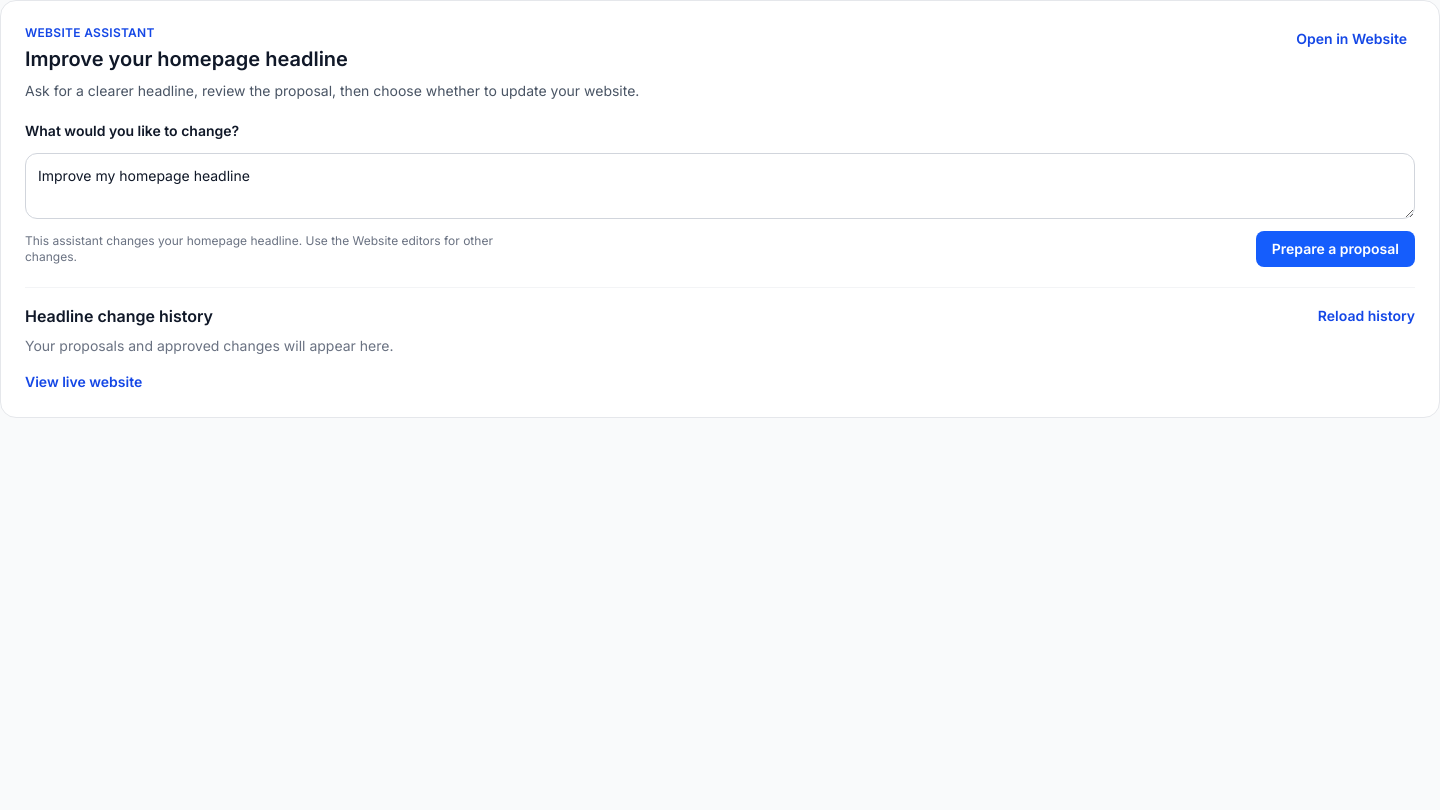
Homepage headline conversation and review › shows stored history on reload and lets the owner reopen a prepared proposal
The width and height of the screenshot is (1440, 810).
Click the button "Reload history": (1366, 316) [1318,306,1415,326]
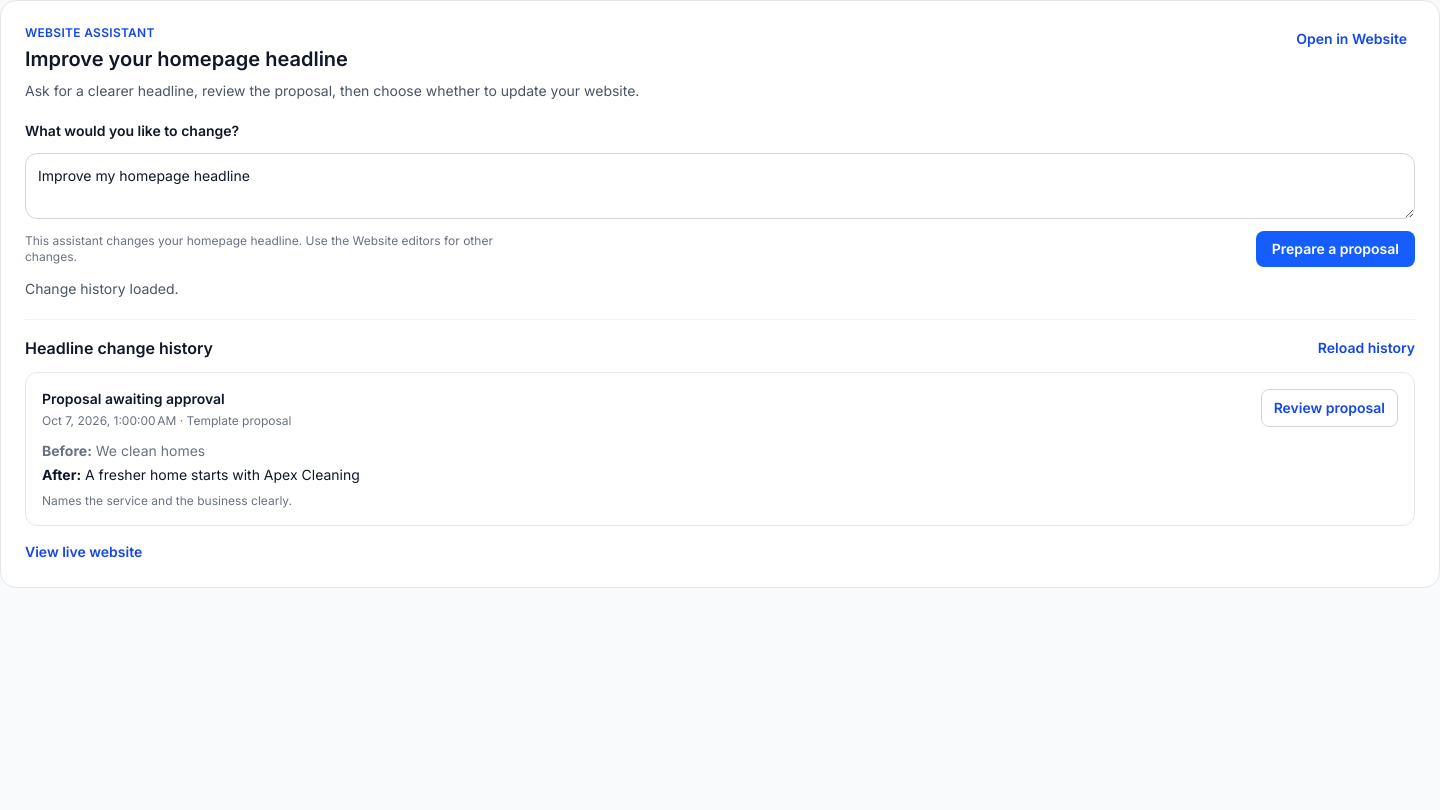
Check: the text "Proposal awaiting approval" is shown, box [42,390,225,407]
Check: the button "Review proposal" is shown
Click the button "Review proposal": (1329, 408) [1261,389,1398,427]
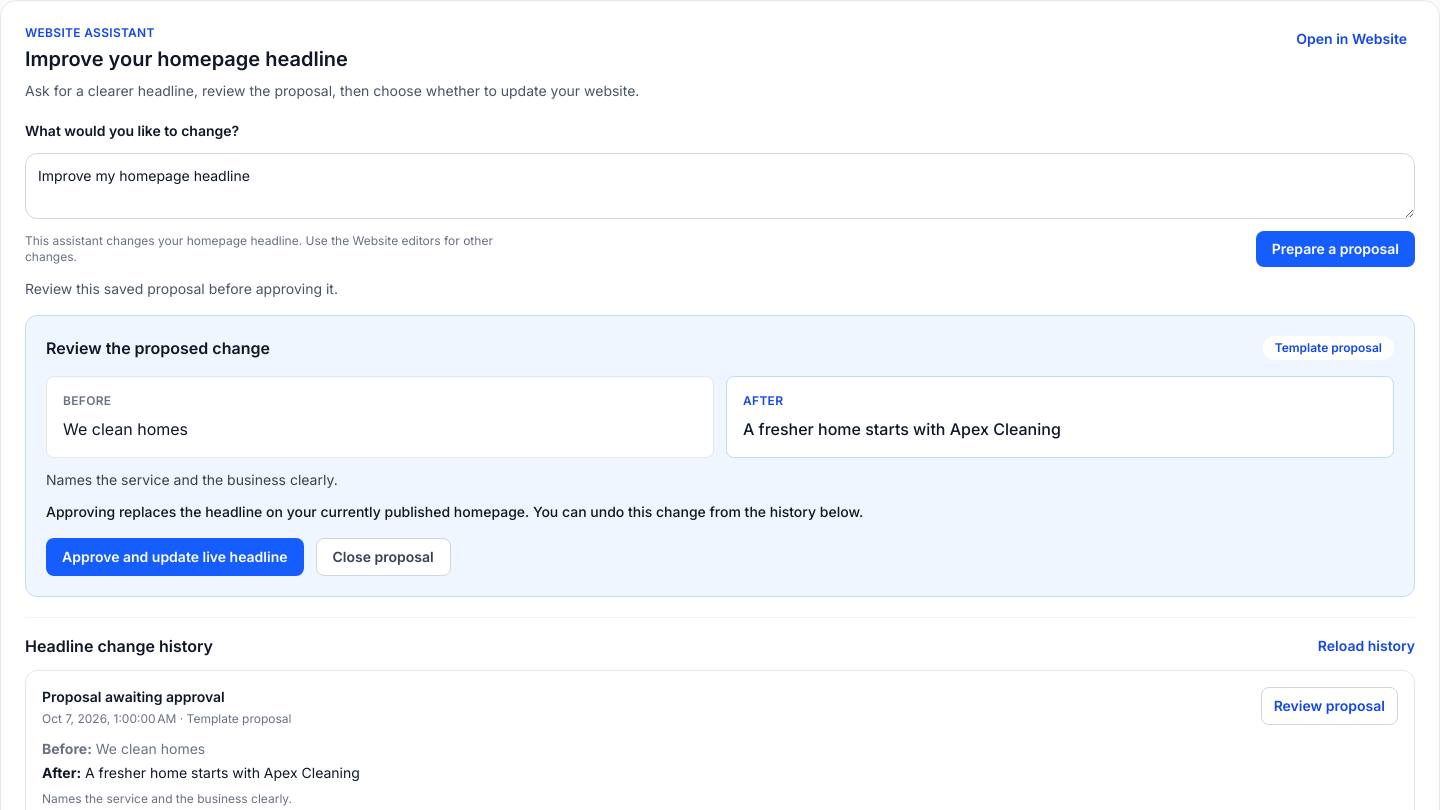
Check: the element with test id "headline-proposal" is shown, box [25,315,1415,597]
